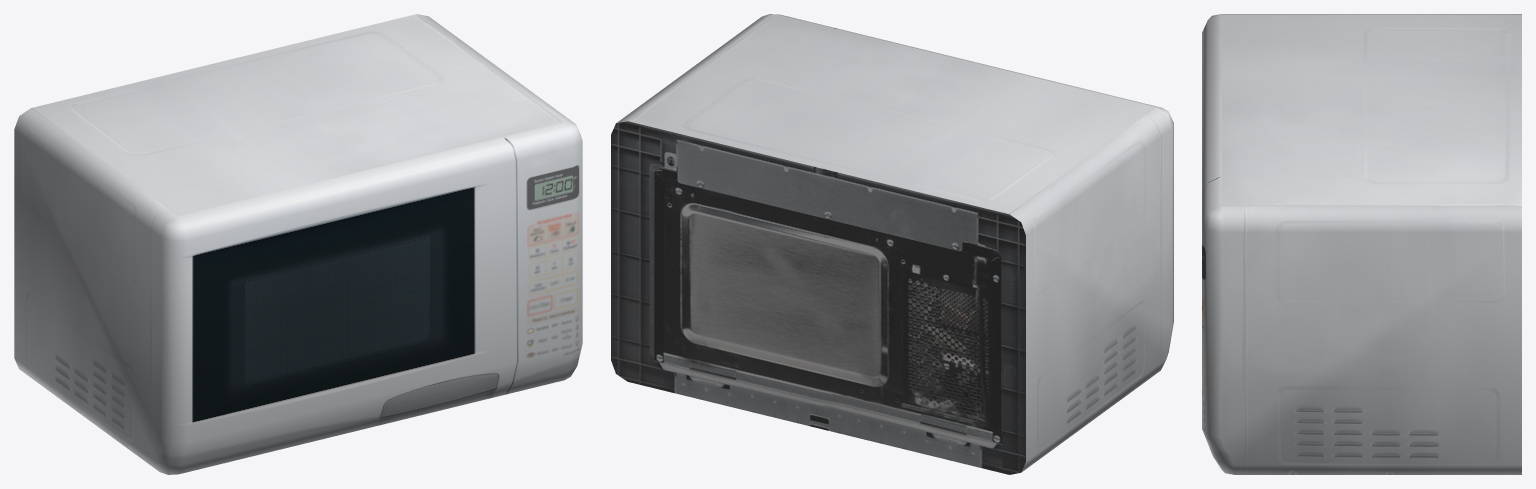
The model's file is Microwave.FBX.
The picture shows the model from 3 angles, left to right: view 1: azimuth 30°, elevation 25°; view 2: azimuth 150°, elevation 25°; view 3: azimuth 270°, elevation 25°; orthographic projection. The views are drawn at different scales.
Visible parts, largest first — view 1: Microwave; view 2: Microwave; view 3: Microwave.
Boxes of the visible parts, left/top/right/bottom form: Microwave: left=14, top=14, right=582, bottom=474; Microwave: left=611, top=14, right=1173, bottom=474; Microwave: left=1202, top=14, right=1521, bottom=474.
Size of the model in its own units: 21.65 by 12.99 by 14.05.
